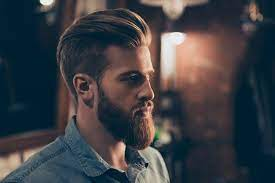b.y: (127, 101, 155, 151)
